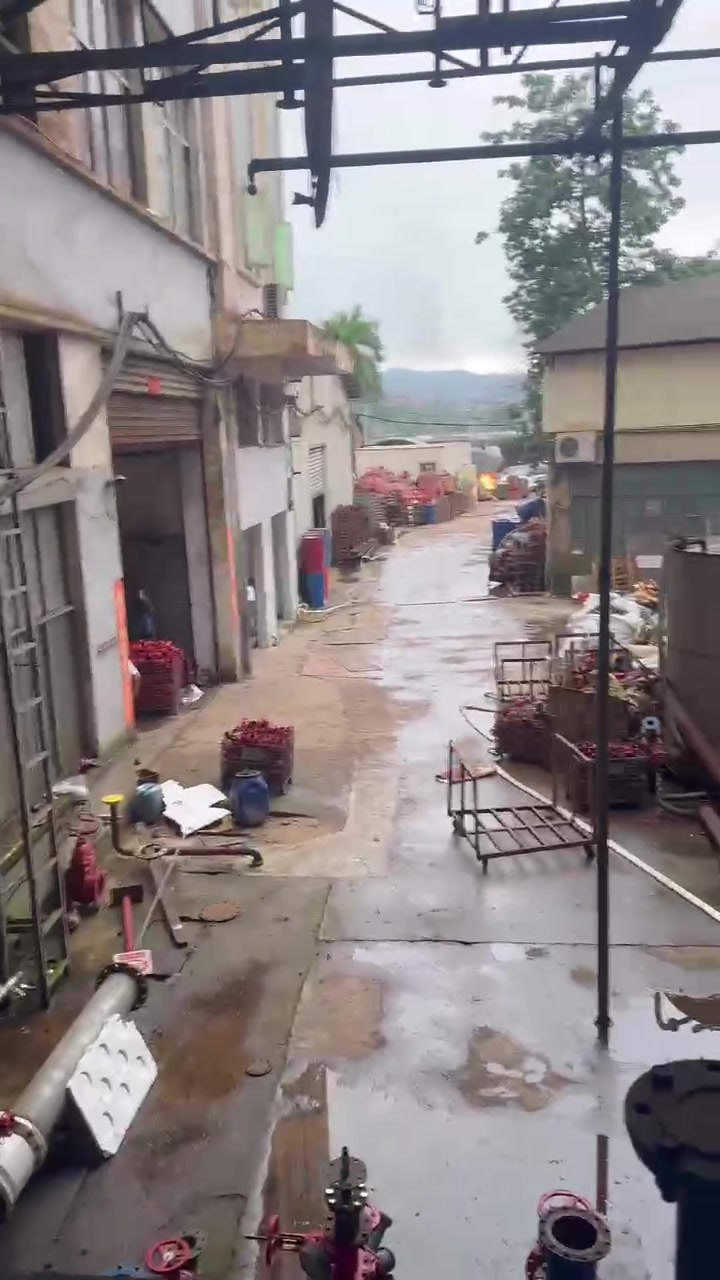fire: (478, 473, 496, 489)
